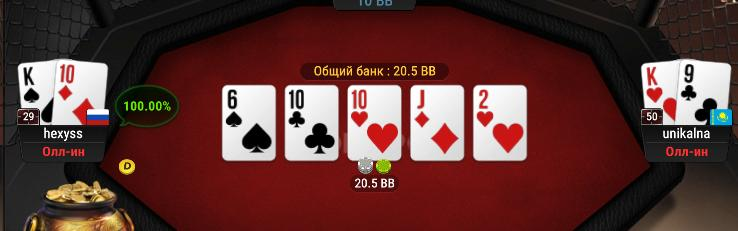10c: (285, 85, 338, 160)
10d: (54, 58, 106, 123)
10h: (348, 86, 401, 159)
2h: (473, 85, 527, 162)
6s: (223, 85, 276, 159)
9c: (678, 58, 731, 124)
Jd: (412, 84, 464, 160)
Kh: (641, 62, 677, 126)
Ks: (17, 61, 55, 125)
